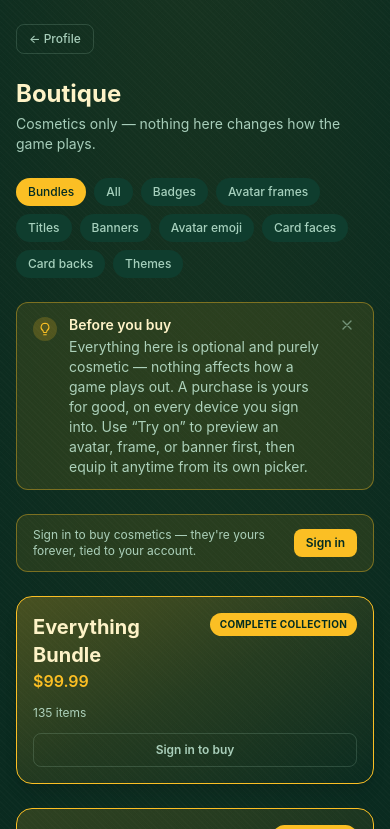
Test: BoutiqueContent › shows every catalog item's price via Intl currency formatting
Click the button "All". click: (114, 192)
box: x1=94 y1=178 x2=133 y2=206
(page scrolled)
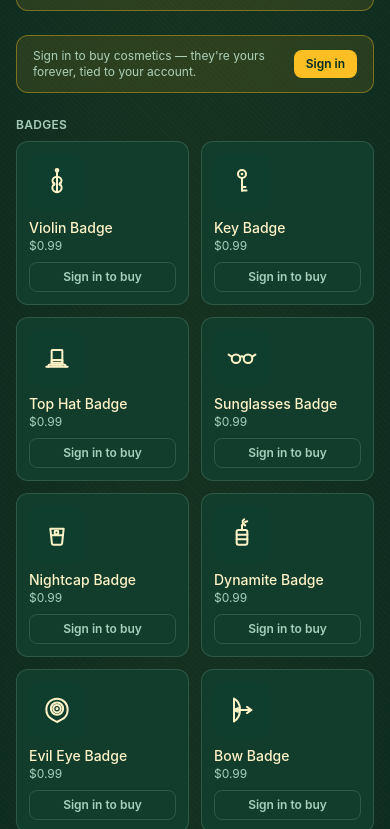
Check: the text "$0.99" below "Top Hat Badge" is shown, box x1=29 y1=414 x2=62 y2=429
